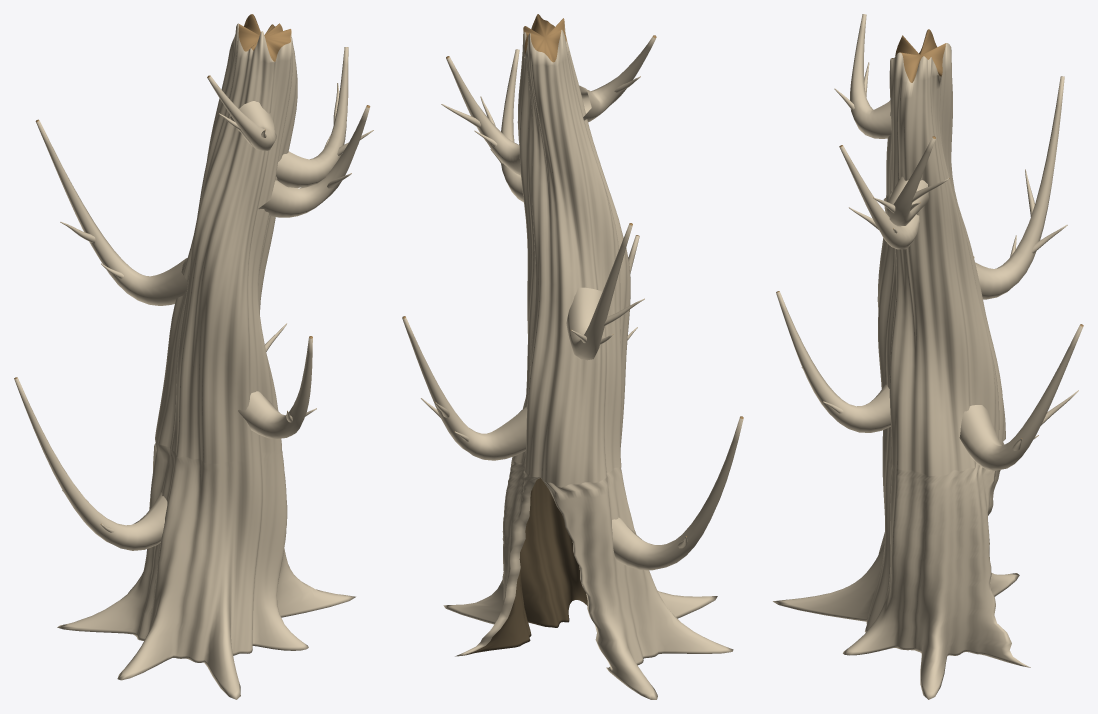
Rendered from A2_Hollow_Loft_Tree.fbx.
The picture shows the model from 3 angles, left to right: view 1: azimuth 30°, elevation 25°; view 2: azimuth 150°, elevation 25°; view 3: azimuth 270°, elevation 25°; orthographic projection.
Visible parts, largest first — view 1: A2_Hollow_Loft_Tree; view 2: A2_Hollow_Loft_Tree; view 3: A2_Hollow_Loft_Tree.
Boxes of the visible parts, box(x1,y1,x2,y2) form: A2_Hollow_Loft_Tree: box(14, 14, 373, 699); A2_Hollow_Loft_Tree: box(402, 14, 743, 699); A2_Hollow_Loft_Tree: box(773, 14, 1083, 699).
Bounding box in the file's own units: 1031 × 1851 × 853.
